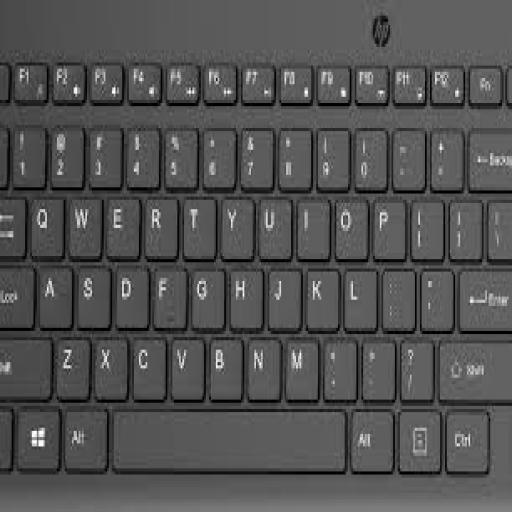KEYBOARD-2: (0, 0, 510, 503)
